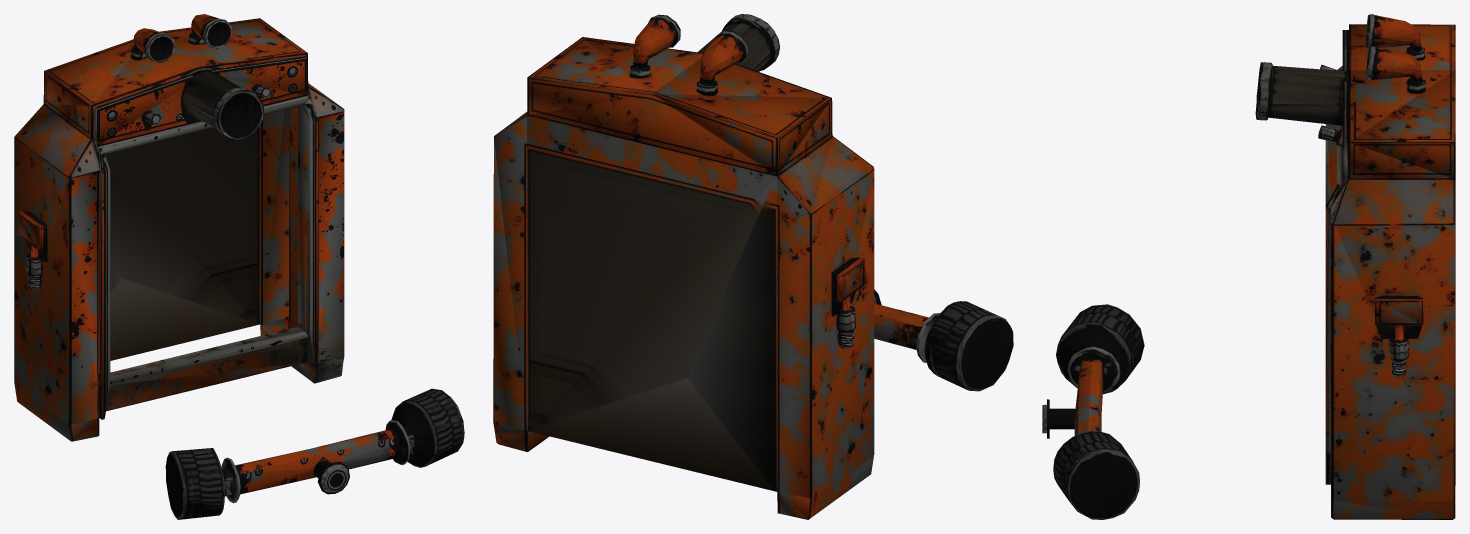
File: nose_grille.glb
The picture shows the model from 3 angles, left to right: view 1: azimuth 30°, elevation 25°; view 2: azimuth 150°, elevation 25°; view 3: azimuth 270°, elevation 25°; orthographic projection. The views are drawn at different scales.
Visible parts, largest first — view 1: tripo_node_7f7b1ee0-4687-40b1-afa9-9edaa381441d; view 2: tripo_node_7f7b1ee0-4687-40b1-afa9-9edaa381441d; view 3: tripo_node_7f7b1ee0-4687-40b1-afa9-9edaa381441d.
Boxes of the visible parts, x1,y1,x2,y2 form: tripo_node_7f7b1ee0-4687-40b1-afa9-9edaa381441d: (14,14,464,519); tripo_node_7f7b1ee0-4687-40b1-afa9-9edaa381441d: (493,14,1013,519); tripo_node_7f7b1ee0-4687-40b1-afa9-9edaa381441d: (1042,14,1455,519).
Size of the model in its own units: 0.8457 by 0.998 by 0.9004.
Materials: 1 (1 with a texture image).
